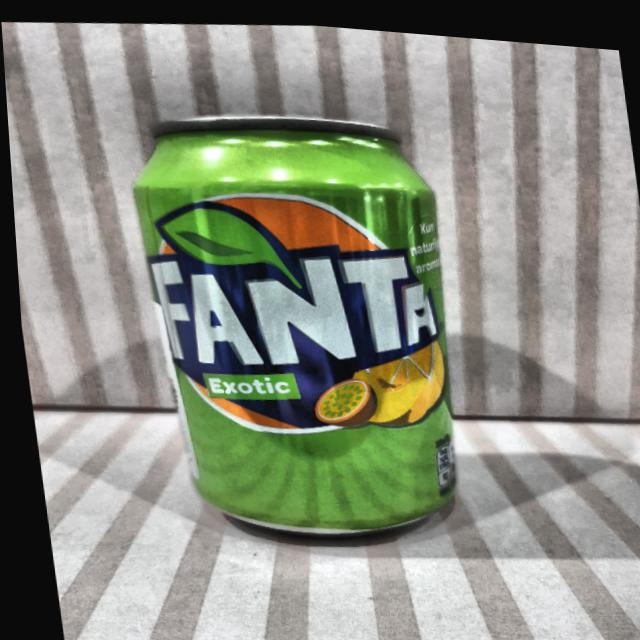Cans: (101, 82, 476, 571)
